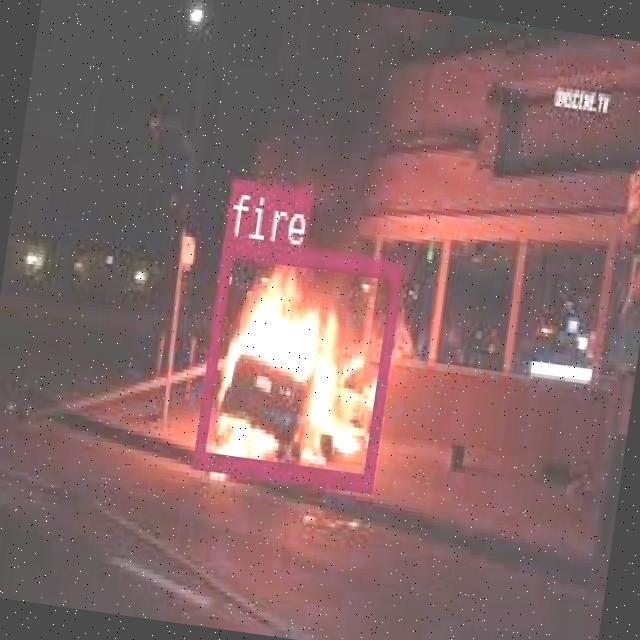fire: (192, 236, 402, 487)
